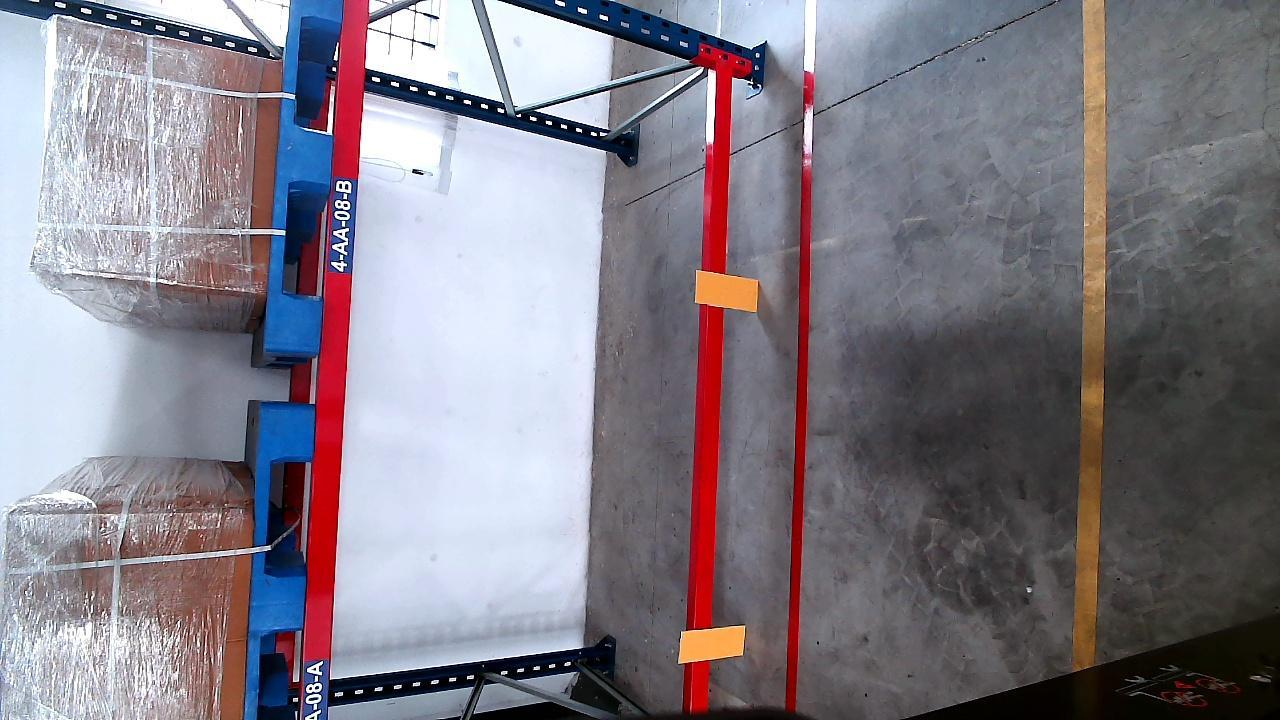red_line: (784, 0, 818, 711)
yellow_line: (1078, 0, 1107, 671)
